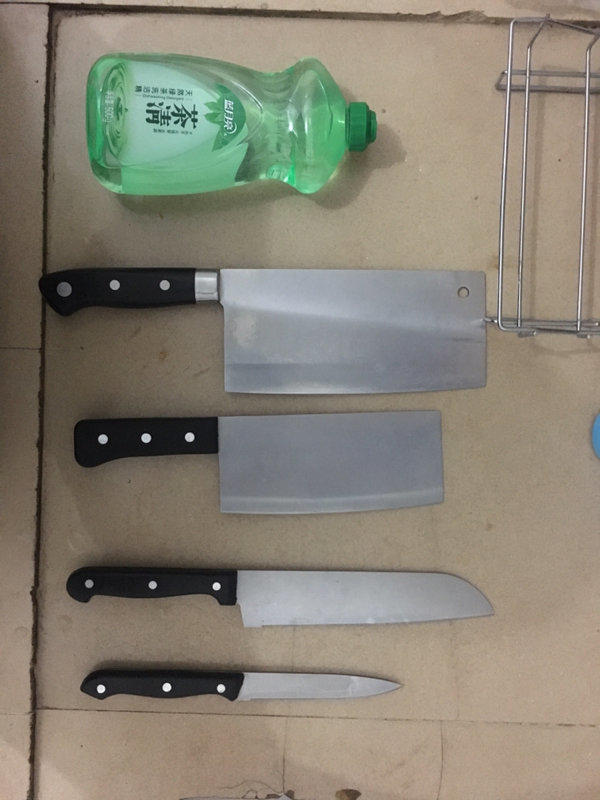knief: (18, 241, 507, 406)
